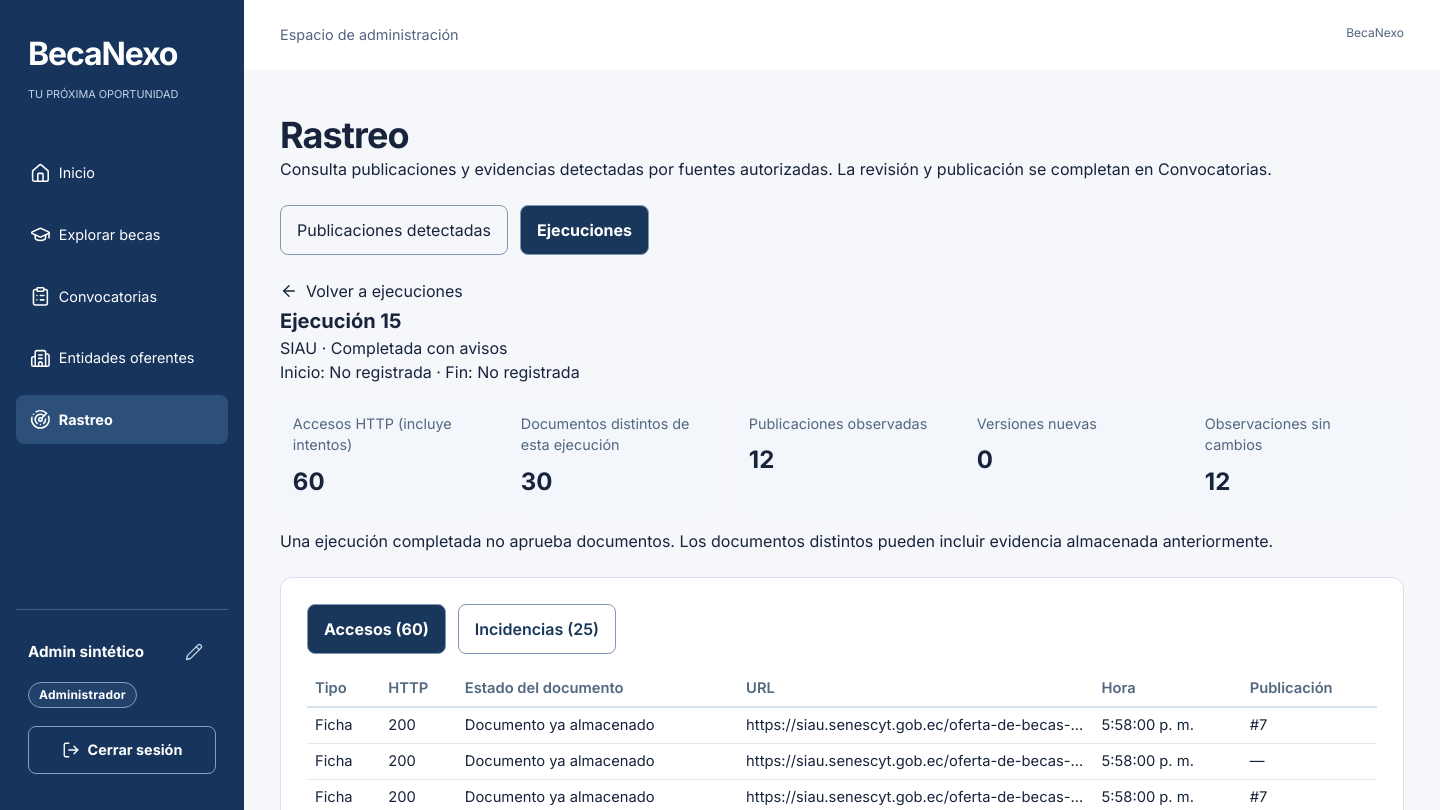
Scenario: sin incidencias muestra un mensaje en lugar de la lista
Click the tab "Incidencias (25)" at x=537, y=629, box left=458, top=604, right=616, bottom=654
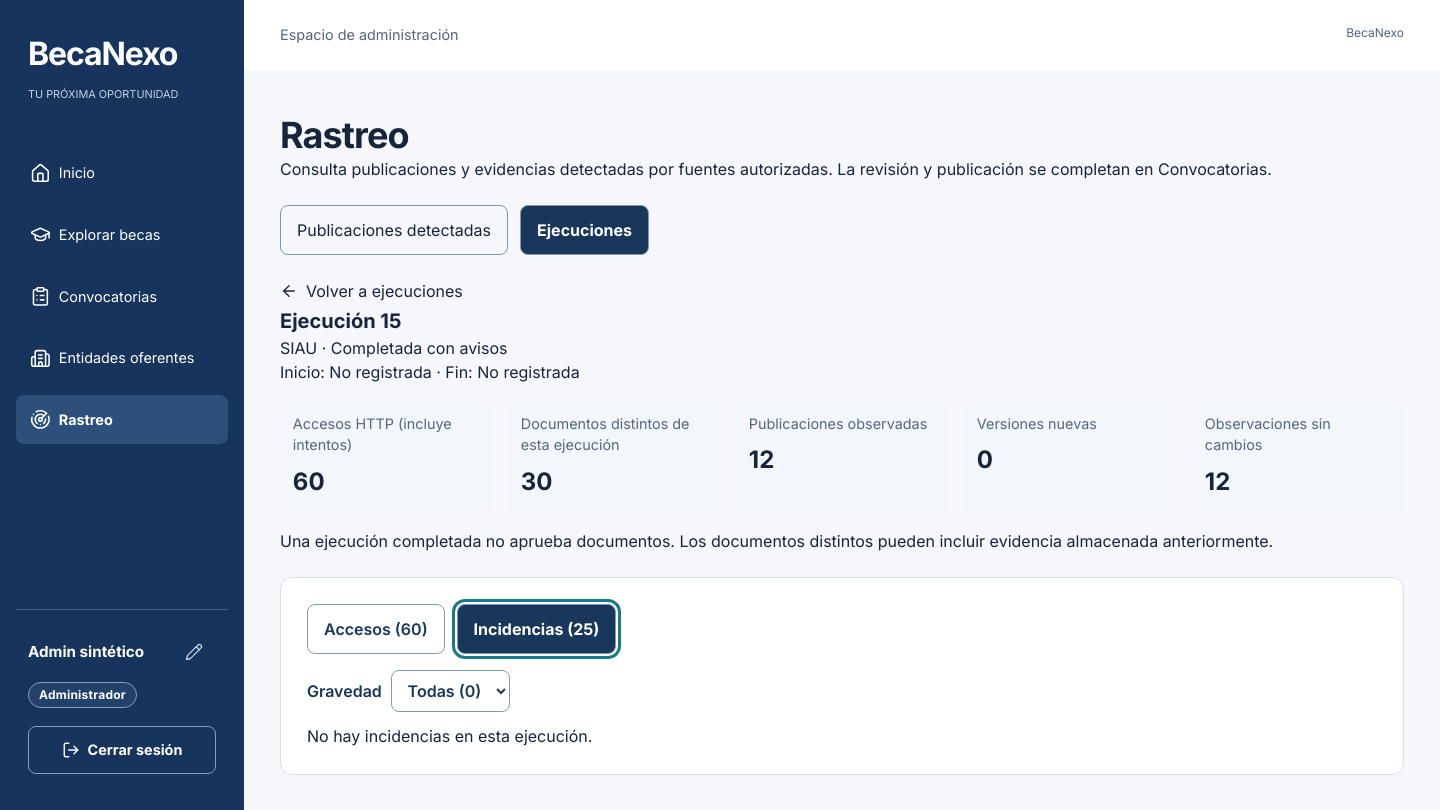
Check: the text "No hay incidencias en esta ejecución." is shown, box left=307, top=726, right=592, bottom=746
